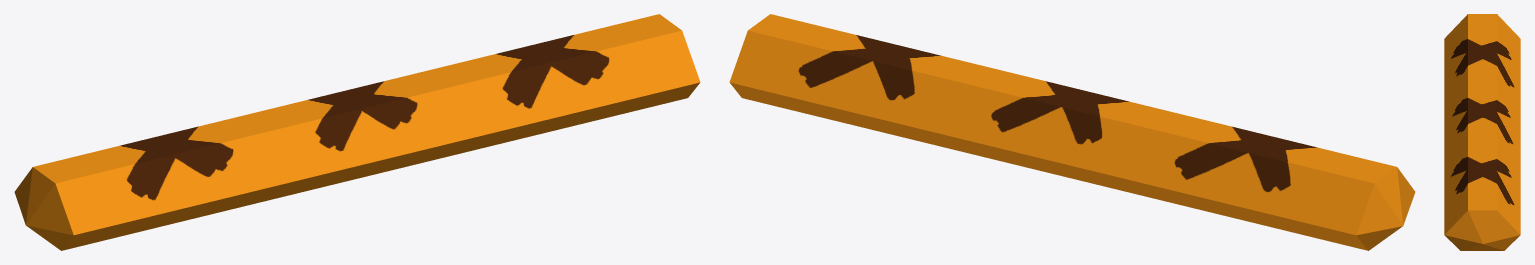
The model's file is yoot-rhino.glb.
3 views of the same model, side by side, from view 1: azimuth 30°, elevation 25°; view 2: azimuth 150°, elevation 25°; view 3: azimuth 270°, elevation 25° (orthographic). The views are drawn at different scales.
Parts seen in each view (by area): view 1: Cylinder.007; view 2: Cylinder.007; view 3: Cylinder.007.
Boxes of the visible parts, box(x1,y1,x2,y2) form: Cylinder.007: box(14, 14, 700, 250); Cylinder.007: box(729, 14, 1415, 250); Cylinder.007: box(1444, 14, 1520, 250).
Size of the model in its own units: 10.36 by 0.9511 by 1.62.
Materials: 1 (1 with a texture image).
